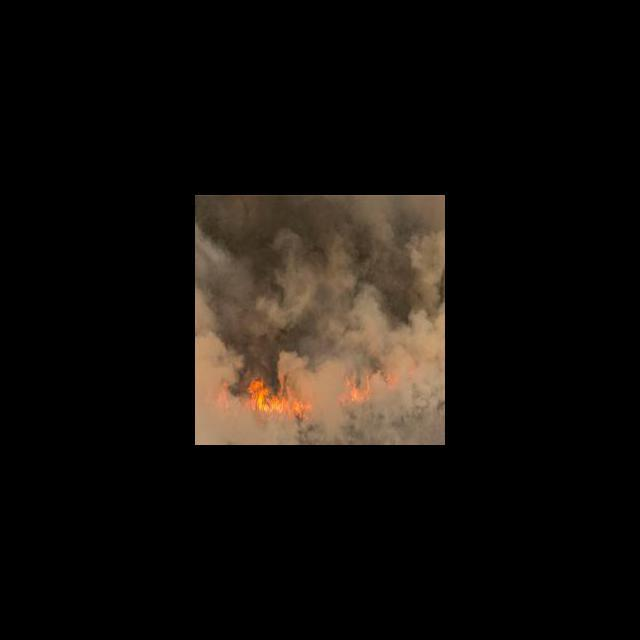Fire: (212, 373, 312, 418)
Smoke: (196, 195, 445, 358), (313, 309, 445, 444)
